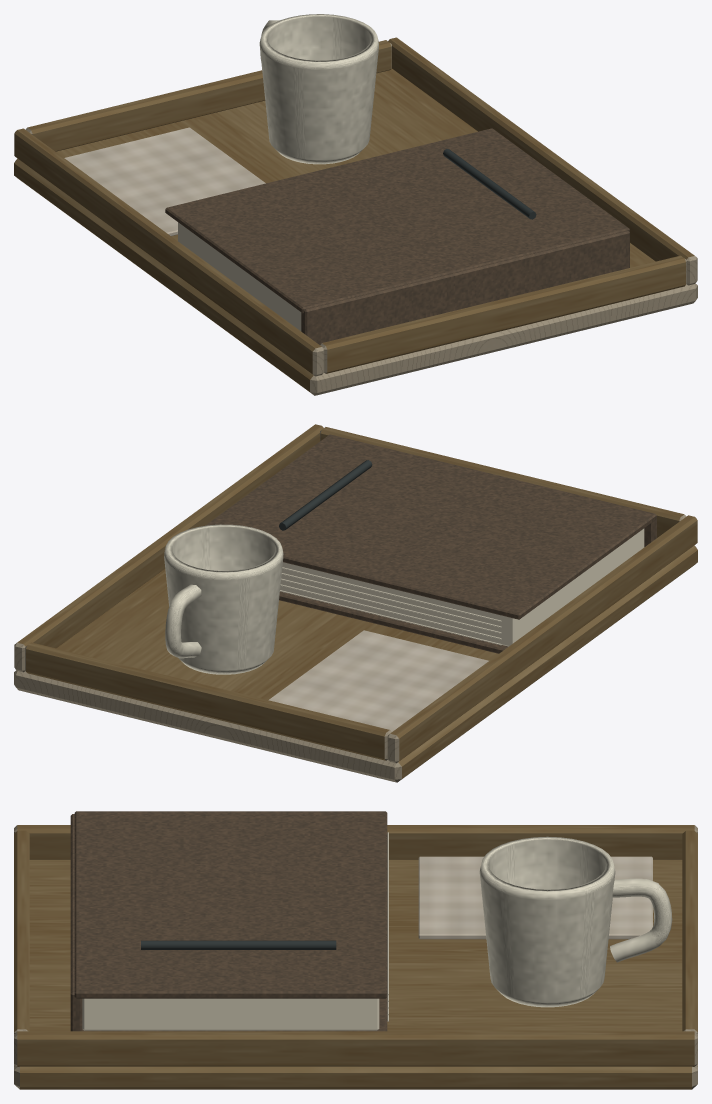
The picture shows the model from 3 angles, top to bottom: view 1: azimuth 30°, elevation 25°; view 2: azimuth 150°, elevation 25°; view 3: azimuth 270°, elevation 25°; orthographic projection. The views are drawn at different scales.
Visible parts, largest first — view 1: Mesh_leather, Mesh_warm, Mesh_ceramic, Mesh_linen, Mesh_endgrain, Mesh_paper, Mesh_iron; view 2: Mesh_warm, Mesh_leather, Mesh_ceramic, Mesh_linen, Mesh_paper, Mesh_endgrain, Mesh_iron; view 3: Mesh_warm, Mesh_leather, Mesh_ceramic, Mesh_paper, Mesh_linen, Mesh_iron, Mesh_endgrain.
Boxes of the visible parts, bbox=[...] form: Mesh_leather: bbox=[165, 128, 629, 344]; Mesh_warm: bbox=[14, 37, 694, 394]; Mesh_ceramic: bbox=[259, 14, 378, 164]; Mesh_linen: bbox=[64, 127, 265, 236]; Mesh_endgrain: bbox=[15, 43, 697, 395]; Mesh_paper: bbox=[178, 222, 301, 331]; Mesh_iron: bbox=[443, 149, 536, 219]; Mesh_warm: bbox=[17, 424, 697, 781]; Mesh_leather: bbox=[205, 434, 656, 653]; Mesh_ceramic: bbox=[164, 524, 283, 674]; Mesh_linen: bbox=[268, 630, 488, 731]; Mesh_paper: bbox=[280, 528, 644, 646]; Mesh_endgrain: bbox=[14, 427, 696, 782]; Mesh_iron: bbox=[279, 460, 372, 530]; Mesh_warm: bbox=[14, 825, 697, 1089]; Mesh_leather: bbox=[70, 811, 387, 1031]; Mesh_ceramic: bbox=[479, 836, 672, 1007]; Mesh_paper: bbox=[82, 832, 388, 1030]; Mesh_linen: bbox=[418, 856, 652, 939]; Mesh_iron: bbox=[141, 940, 336, 949]; Mesh_endgrain: bbox=[14, 825, 697, 1089].
Bounding box in the file's own units: 0.26 × 0.0827 × 0.35.
7 materials, 5 textured.
